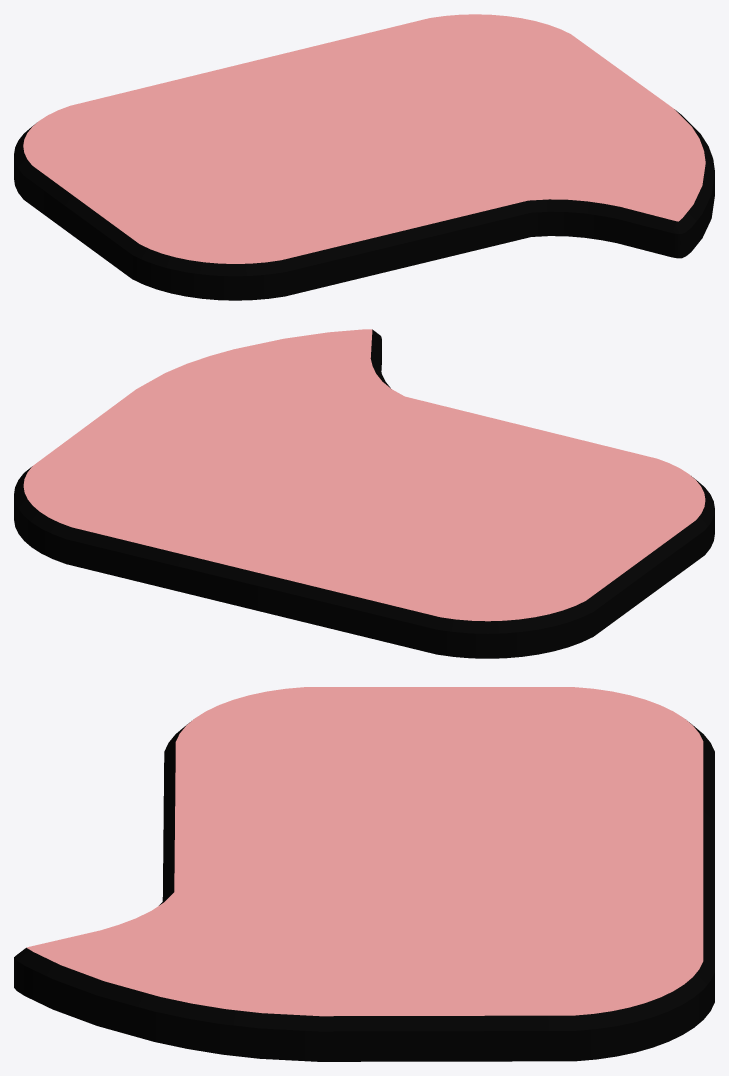
Rendered from bubble.fbx.
3 renders of one model, top to bottom at view 1: azimuth 30°, elevation 25°; view 2: azimuth 150°, elevation 25°; view 3: azimuth 270°, elevation 25°, orthographic. The views are drawn at different scales.
Parts seen in each view (by area): view 1: rect7444; view 2: rect7444; view 3: rect7444.
Boxes of the visible parts, left/top/right/bottom form: rect7444: left=14, top=14, right=714, bottom=300; rect7444: left=14, top=329, right=714, bottom=658; rect7444: left=14, top=687, right=714, bottom=1061.
Size of the model in its own units: 356 by 20 by 311.
